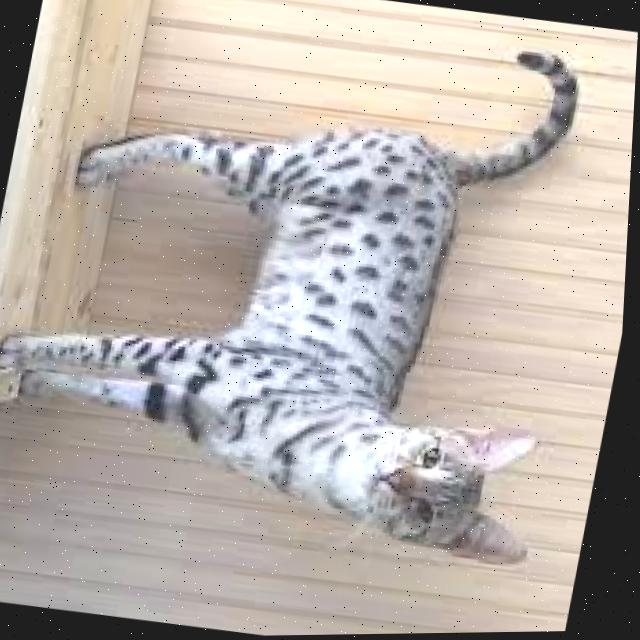Savannah: (0, 0, 633, 582)
